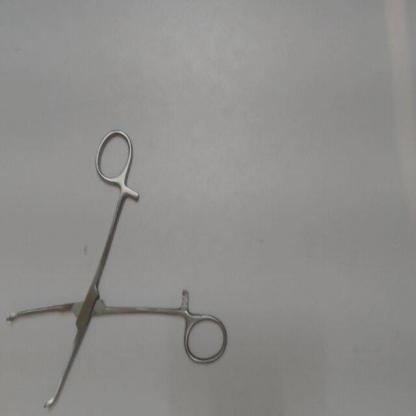Allis Tissue Forceps: (3, 121, 237, 415)
